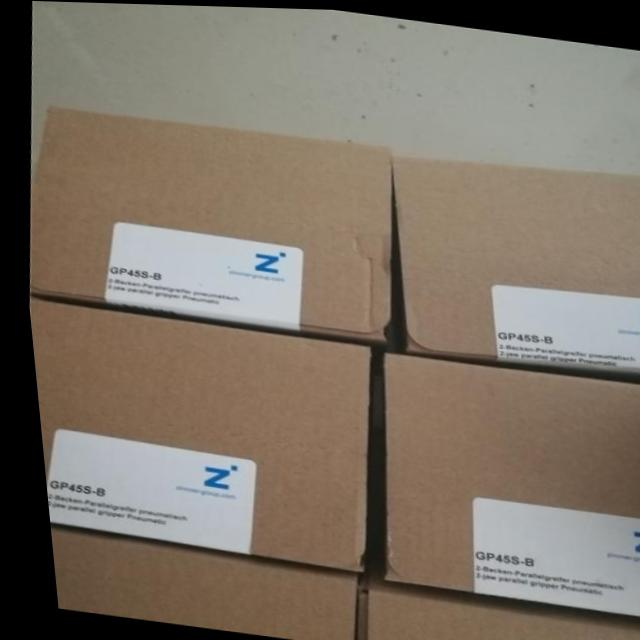box: (24, 295, 363, 568), (24, 104, 389, 343), (373, 350, 640, 614), (389, 151, 640, 371), (40, 524, 346, 640), (342, 580, 640, 640)
